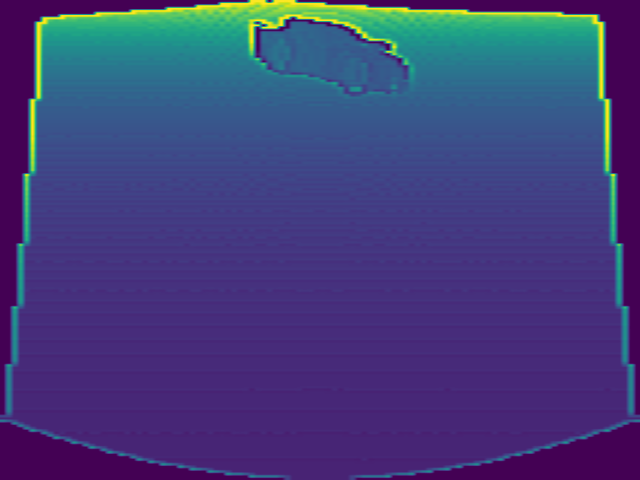car_0027: (245, 16, 415, 102)
